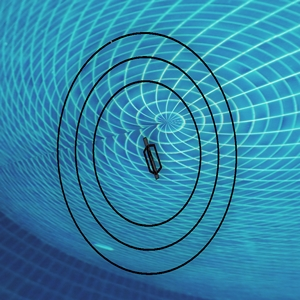submarine: (142, 139, 163, 177)
